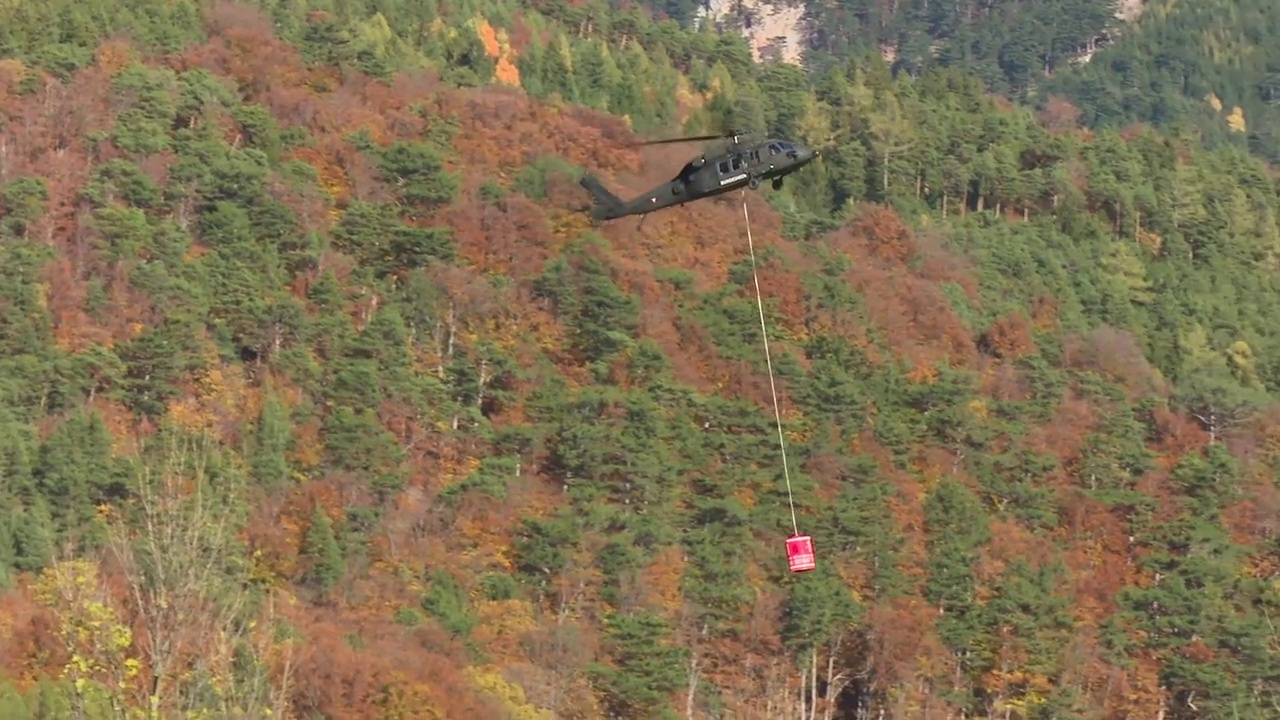heli: (576, 130, 824, 220)
